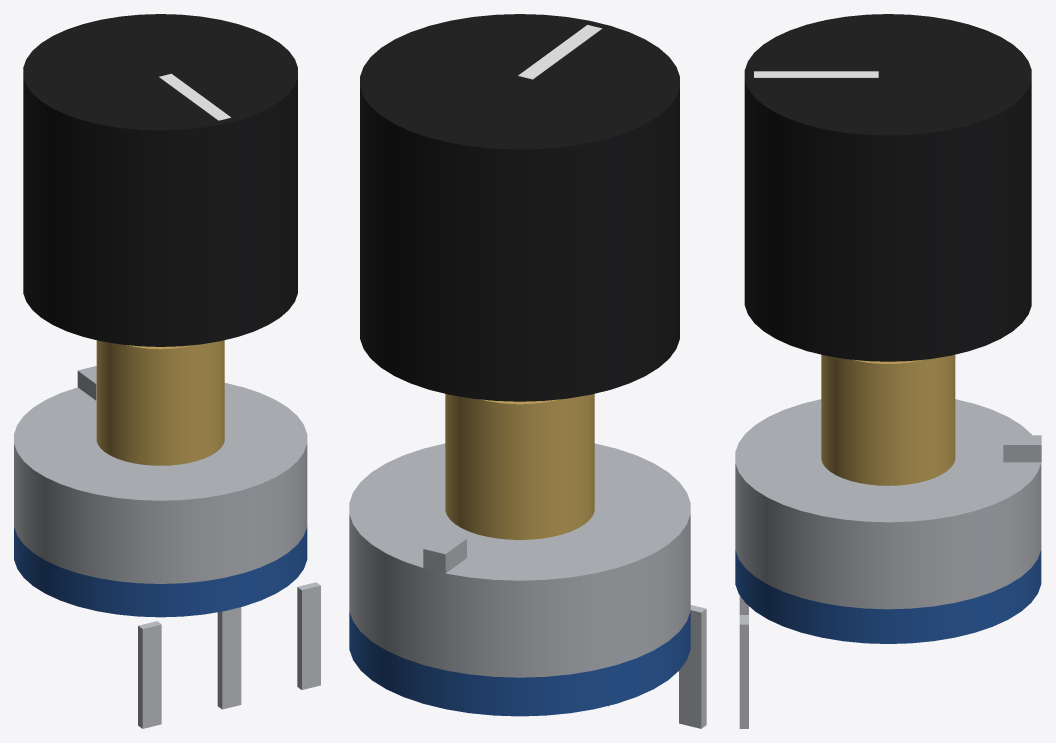
File: potentiometer-wh148.glb
3 renders of one model, left to right at view 1: azimuth 30°, elevation 25°; view 2: azimuth 150°, elevation 25°; view 3: azimuth 270°, elevation 25°, orthographic. The views are drawn at different scales.
Visible parts, largest first — view 1: object 5, object 2, object 3, object 1, pin-3, pin-1, pin-2, object 6; view 2: object 5, object 2, object 3, object 1, pin-1, object 6; view 3: object 5, object 2, object 3, object 1, pin-3, object 6.
Part boxes in pixels (box(x1,y1,x2,y2)): object 5: box(23, 14, 297, 346); object 2: box(14, 366, 307, 583); object 3: box(96, 340, 224, 465); object 1: box(14, 527, 307, 617); pin-3: box(297, 582, 320, 689); pin-1: box(138, 621, 161, 728); pin-2: box(217, 607, 241, 709); object 6: box(159, 73, 230, 120); object 5: box(360, 14, 679, 401); object 2: box(349, 443, 690, 677); object 3: box(445, 394, 594, 539); object 1: box(349, 611, 690, 716); pin-1: box(679, 605, 706, 728); object 6: box(518, 25, 602, 79); object 5: box(744, 14, 1031, 361); object 2: box(735, 399, 1041, 609); object 3: box(821, 354, 955, 485); object 1: box(735, 550, 1041, 643); pin-3: box(739, 615, 748, 728); object 6: box(754, 71, 878, 77).
Bounding box in the file's own units: 0.016 × 0.035 × 0.016.
